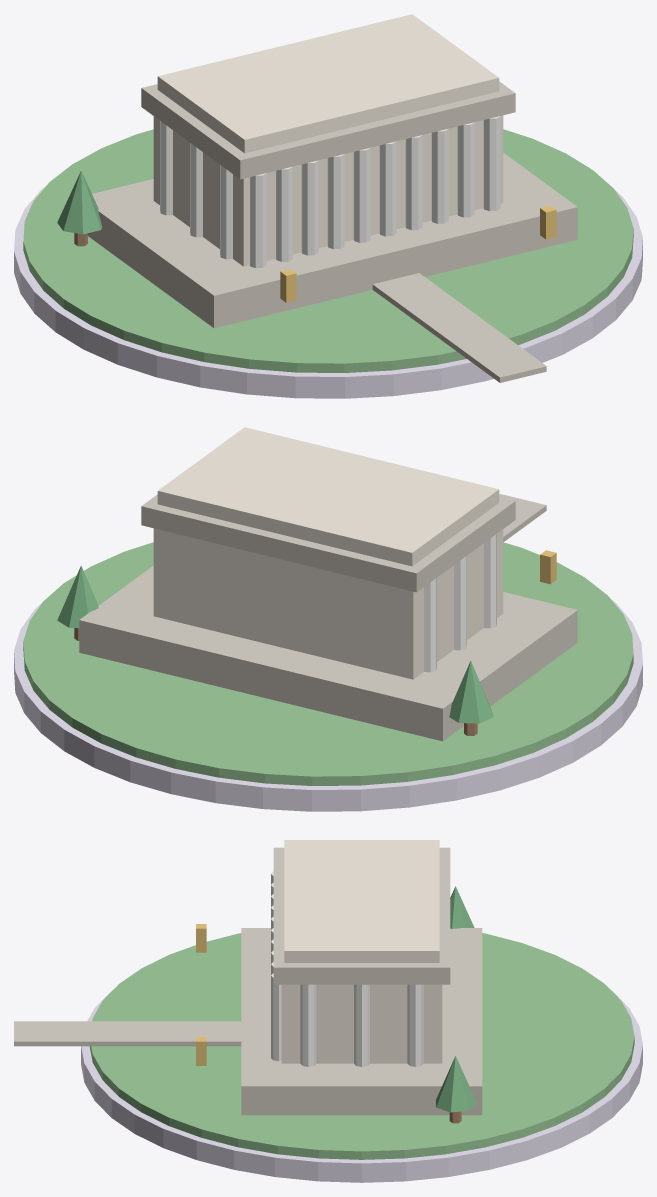
The model's file is anitkabir.glb.
3 views of the same model, one above another, from view 1: azimuth 30°, elevation 25°; view 2: azimuth 150°, elevation 25°; view 3: azimuth 270°, elevation 25° (orthographic). The views are drawn at different scales.
Parts seen in each view (by area): view 1: anitkabir; view 2: anitkabir; view 3: anitkabir.
Part boxes in pixels (box(x1,y1,x2,y2)): anitkabir: box(14, 14, 642, 398); anitkabir: box(14, 427, 642, 811); anitkabir: box(14, 840, 642, 1182).
Size of the model in its own units: 2.1 by 0.6949 by 2.35.
1 material, 1 textured.
